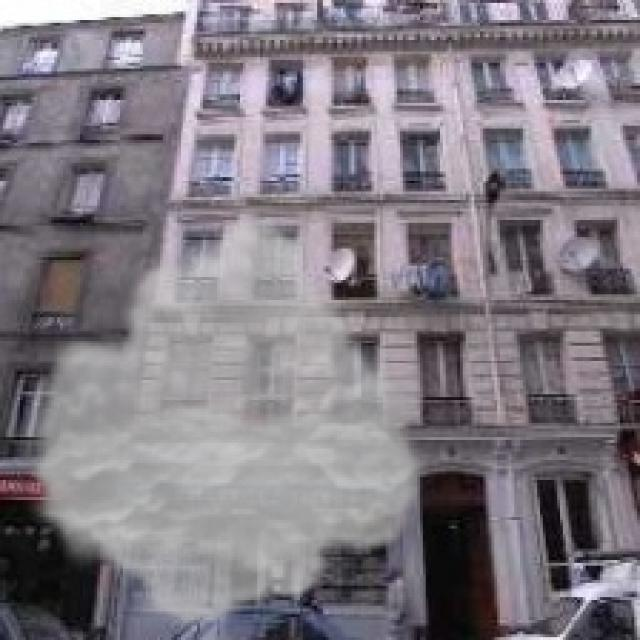Smoke: (19, 208, 434, 632)
